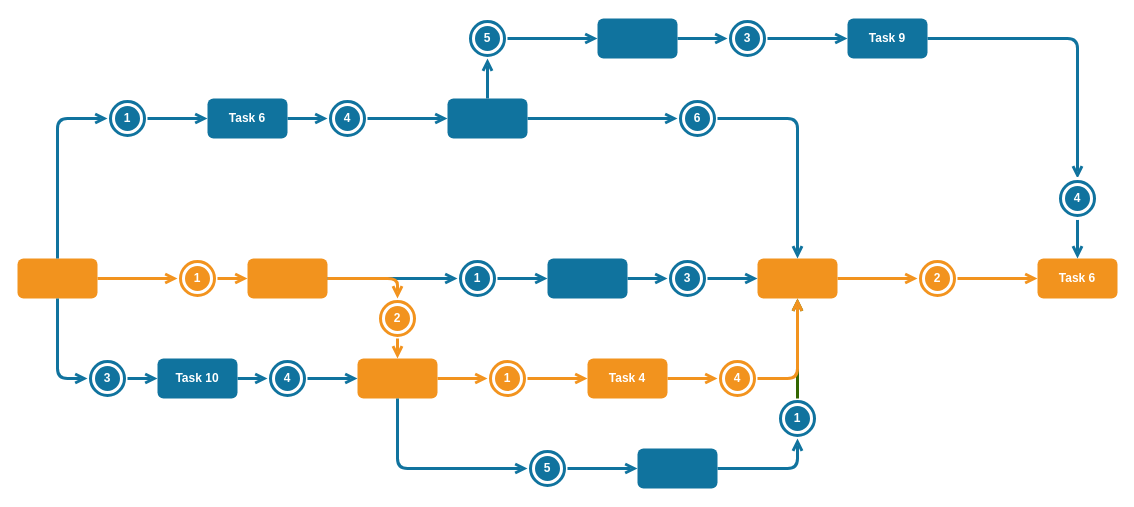
The diagram is 1134 pixels wide and 507 high, and some of its shapes have lost their labels. The centre of each missing label's shape, as x and y in pixels:
"Task 1" goes at point 57,278.
"Task 11" goes at point 587,278.
"Task 12" goes at point 677,468.
"Task 2" goes at point 287,278.
"Task 3" goes at point 397,378.
"Task 5" goes at point 797,278.
"Task 7" goes at point 487,118.
"Task 8" goes at point 637,38.
